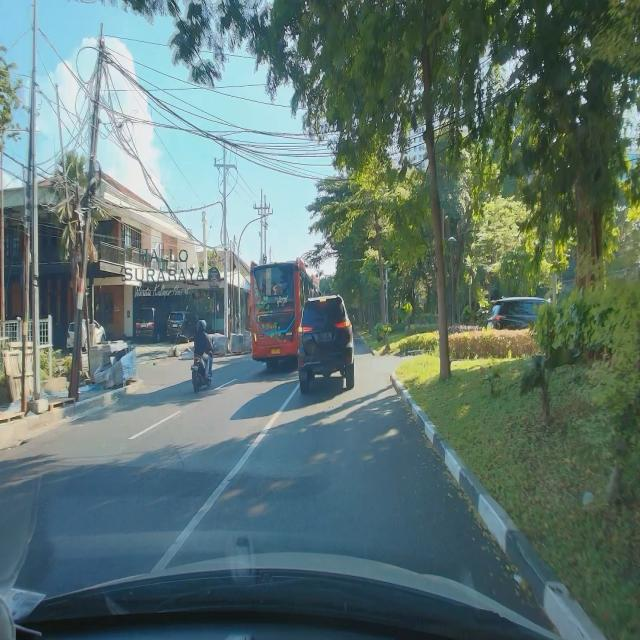bus: (250, 256, 321, 372)
car: (298, 290, 356, 394)
license-plate: (317, 332, 332, 342), (271, 348, 281, 354)
